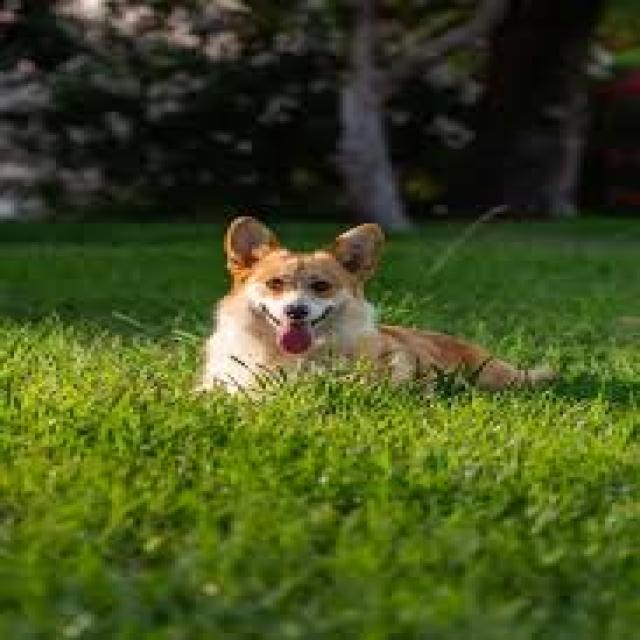CORGI: (168, 200, 557, 399)
